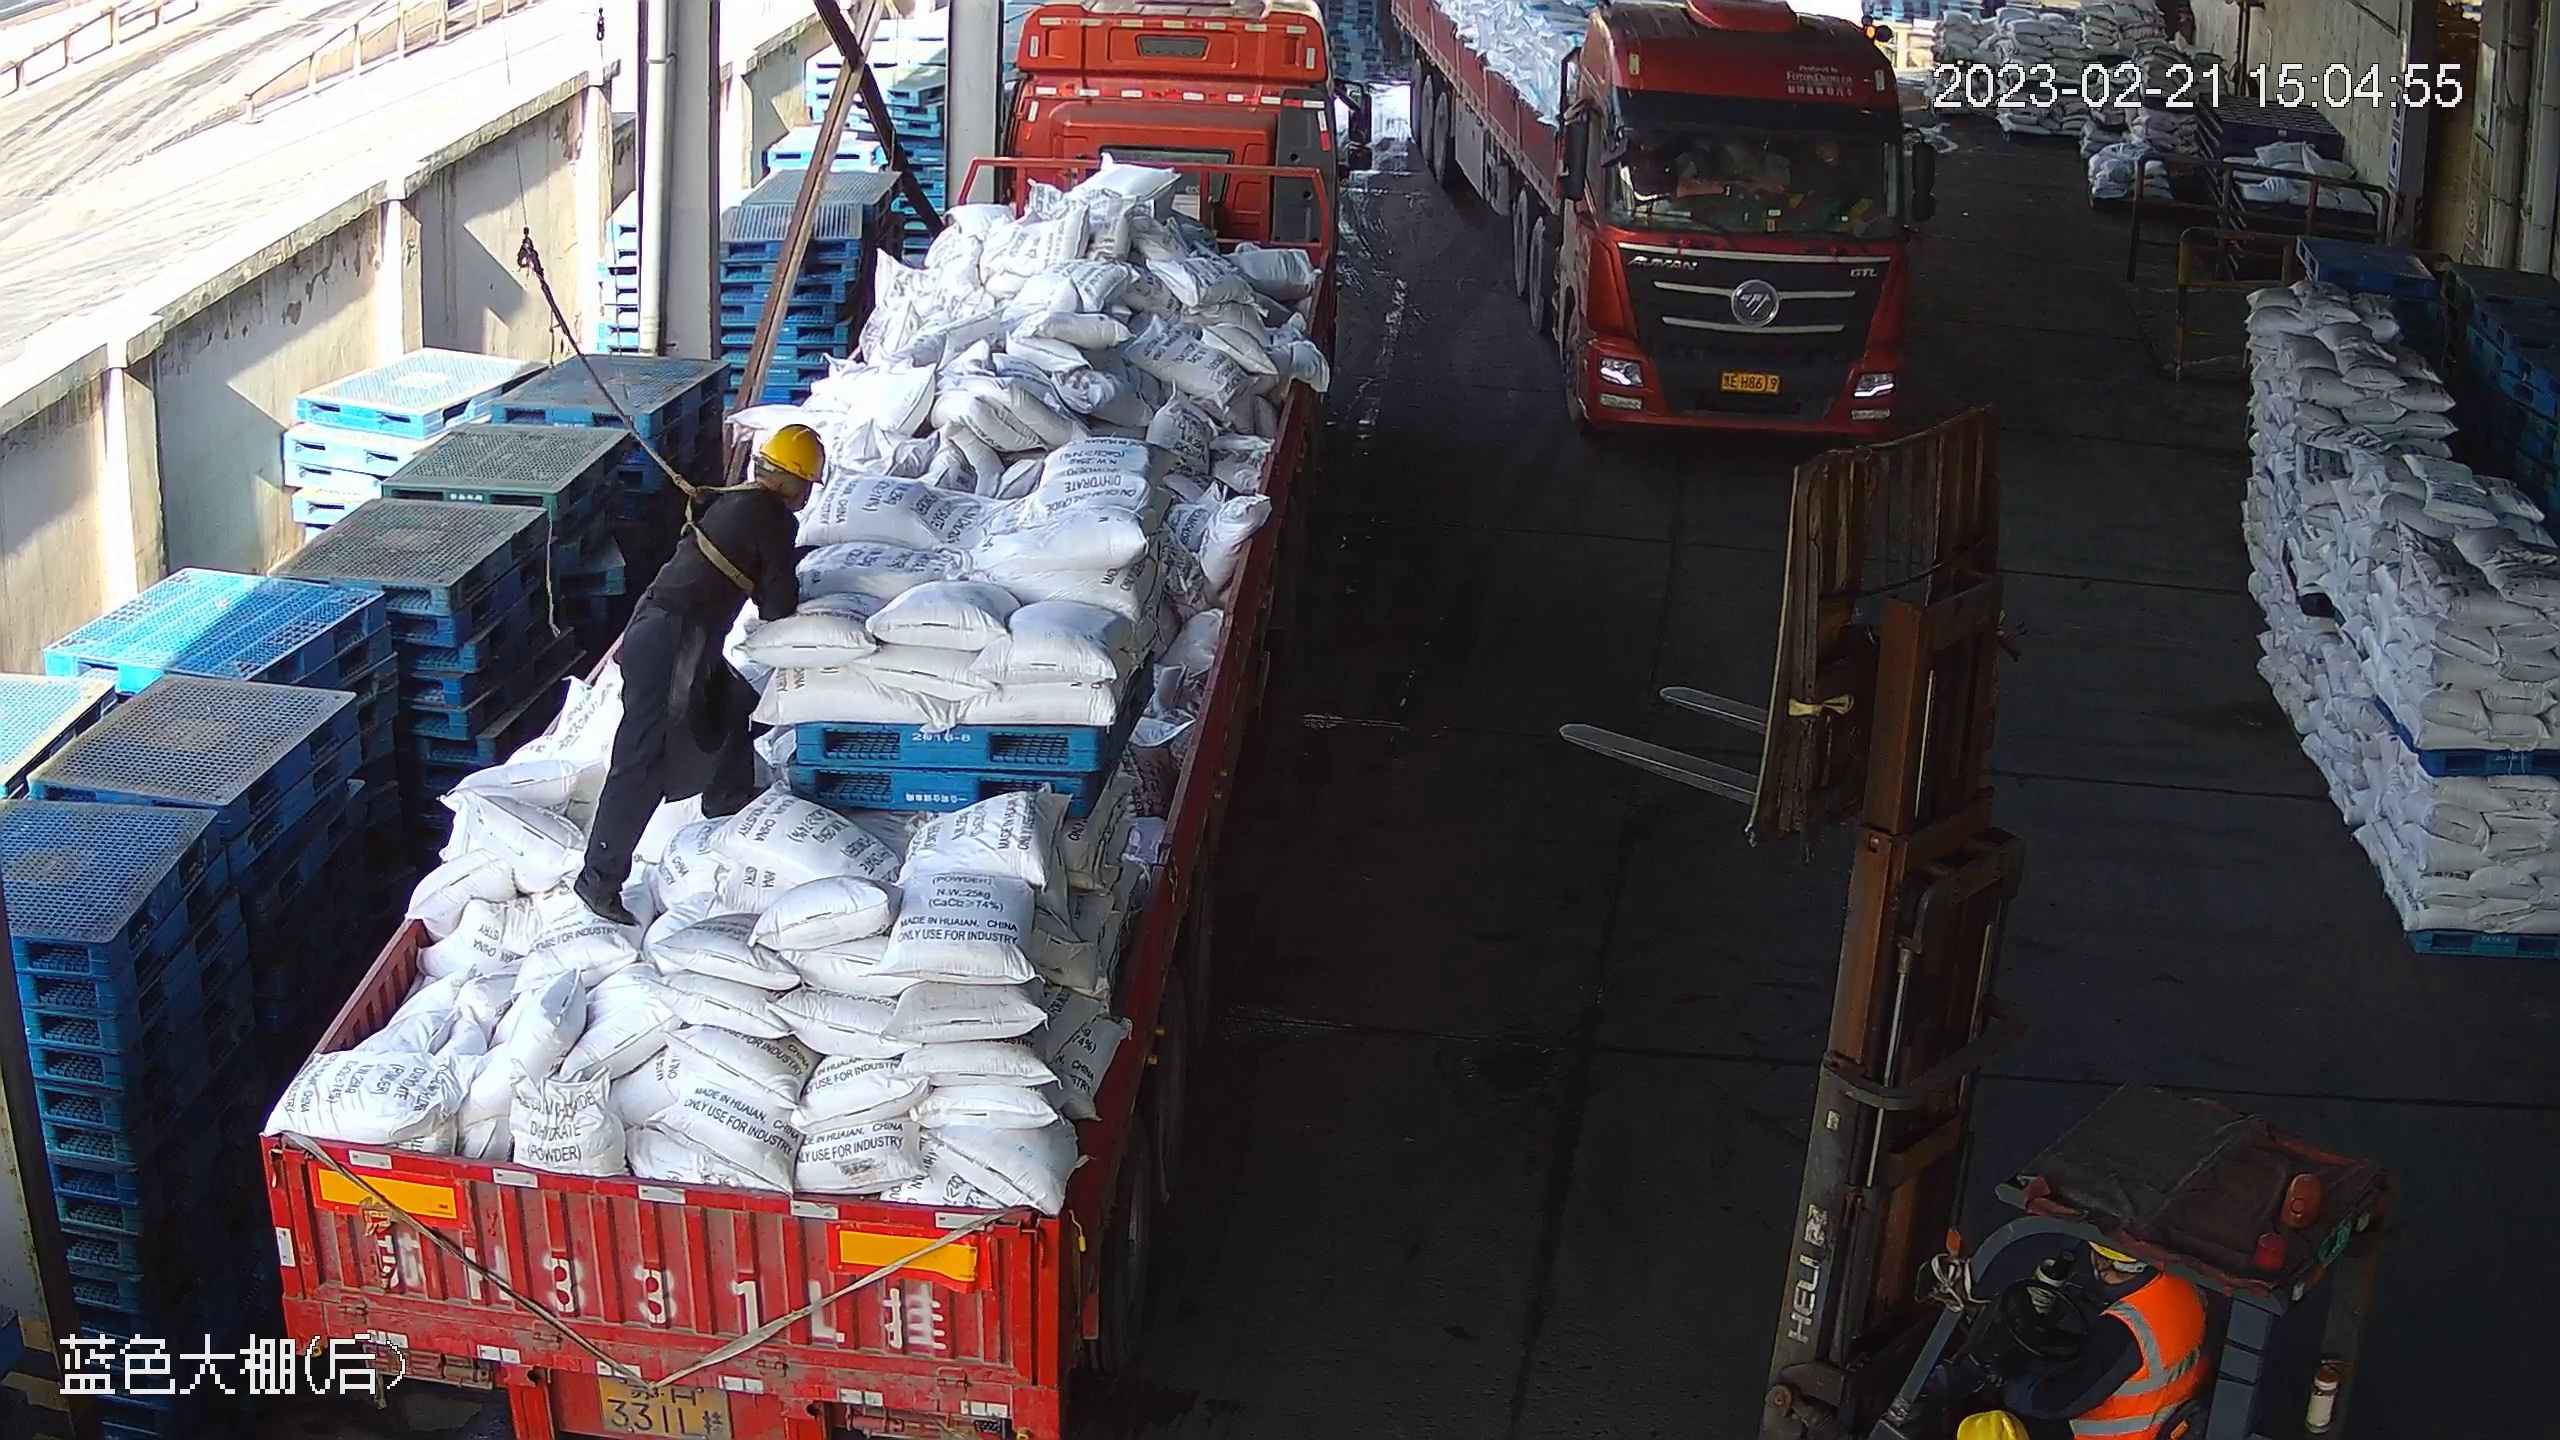belt: (662, 465, 771, 588)
head: (674, 421, 829, 582)
helmet: (761, 426, 828, 486), (1955, 1405, 2030, 1438)
people: (575, 421, 829, 929)
truck: (252, 1, 1369, 1433), (1388, 1, 1945, 449)
